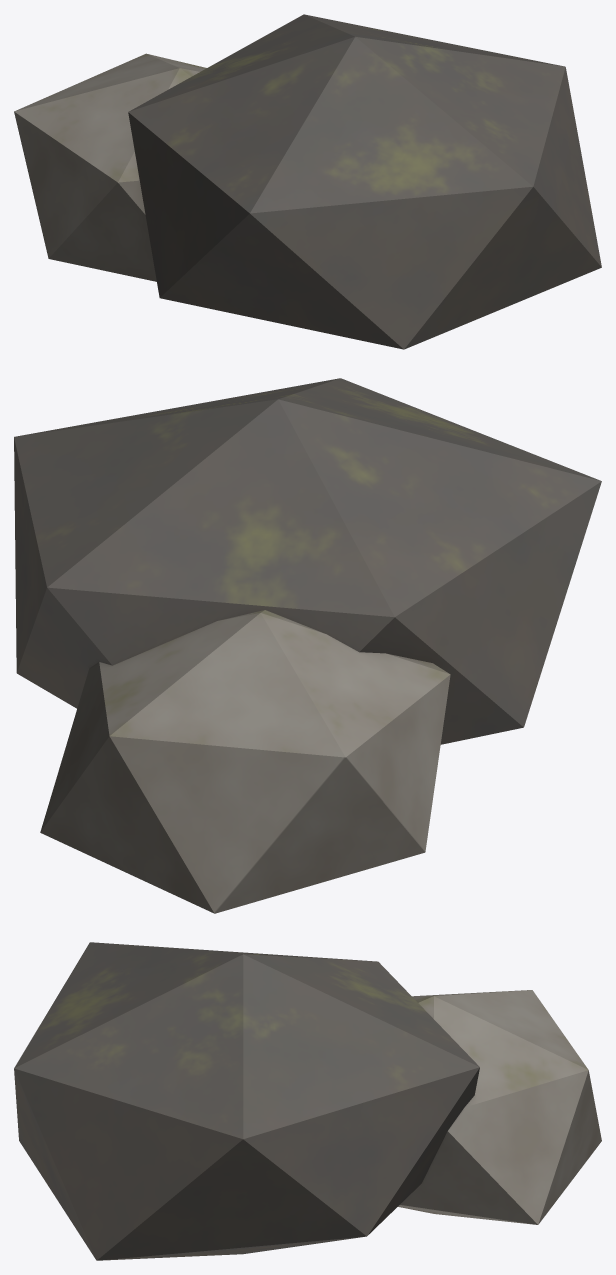
File: pedregulho.glb
3 renders of one model, top to bottom at view 1: azimuth 30°, elevation 25°; view 2: azimuth 150°, elevation 25°; view 3: azimuth 270°, elevation 25°, orthographic. The views are drawn at different scales.
Visible parts, largest first — view 1: pedregulho; view 2: pedregulho; view 3: pedregulho.
Boxes of the visible parts, <box> form: pedregulho: <box>14,14,601,349</box>; pedregulho: <box>14,378,601,913</box>; pedregulho: <box>14,942,601,1260</box>.
Size of the model in its own units: 0.5482 by 0.3697 by 0.657.
1 material, 1 textured.
